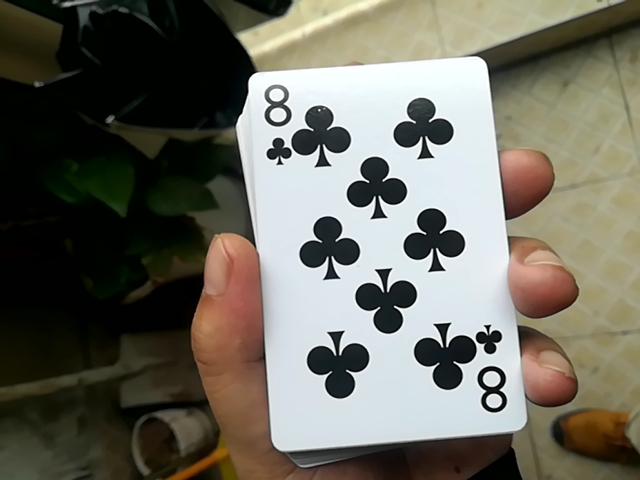mh 8: (237, 59, 532, 463)
